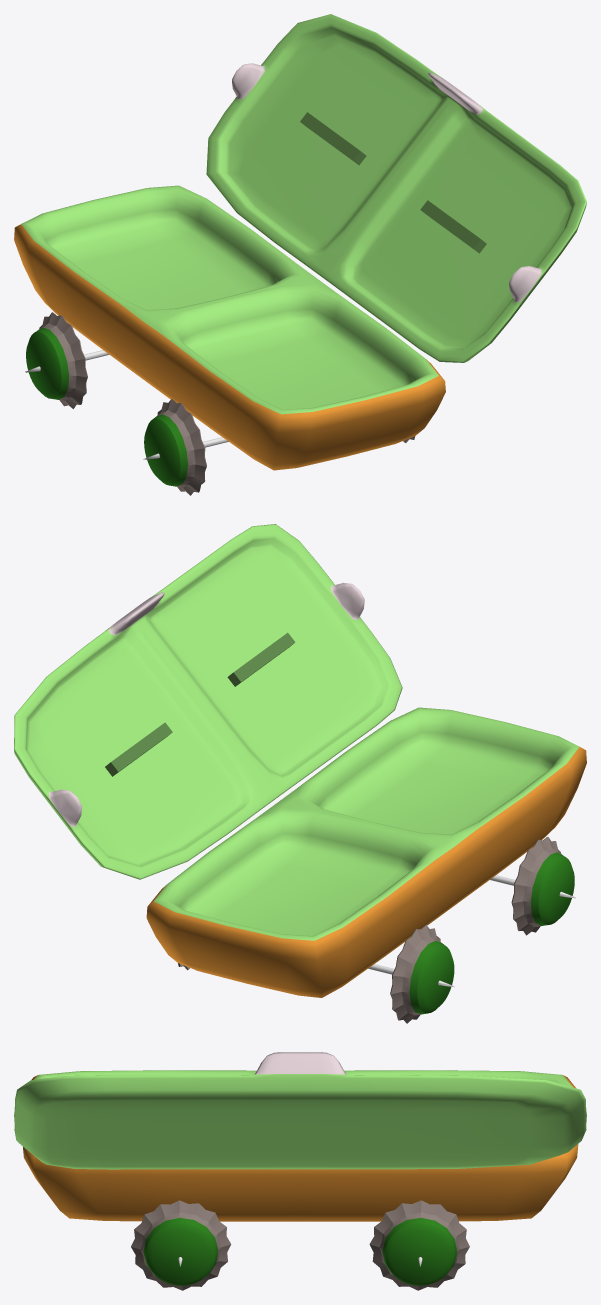
File: Resta.fbx
The picture shows the model from 3 angles, top to bottom: view 1: azimuth 30°, elevation 25°; view 2: azimuth 150°, elevation 25°; view 3: azimuth 270°, elevation 25°; orthographic projection.
Parts seen in each view (by area): view 1: carmanyola.001, ruedas.001, resta; view 2: carmanyola.001, ruedas.001, resta; view 3: carmanyola.001, ruedas.001.
Boxes of the visible parts, box(x1,y1,x2,y2) form: carmanyola.001: box(14, 14, 586, 470); ruedas.001: box(26, 312, 415, 495); resta: box(300, 112, 486, 253); carmanyola.001: box(14, 524, 586, 997); ruedas.001: box(178, 837, 574, 1023); resta: box(105, 632, 295, 776); carmanyola.001: box(14, 1052, 586, 1221); ruedas.001: box(131, 1200, 469, 1290).
Bounding box in the file's own units: 2390 × 1715 × 3070.
